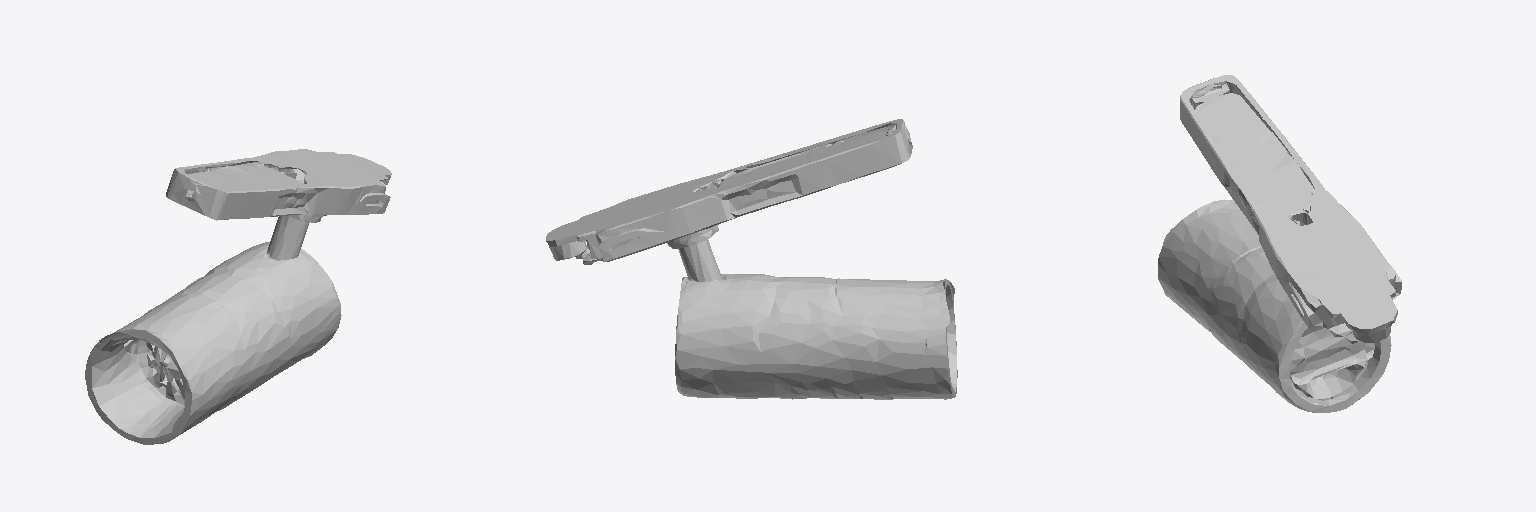
Rendered from luminaria13.obj.
3 renders of one model, left to right at view 1: azimuth 30°, elevation 25°; view 2: azimuth 150°, elevation 25°; view 3: azimuth 270°, elevation 25°, orthographic.
Parts seen in each view (by area): view 1: luminaria13; view 2: luminaria13; view 3: luminaria13.
Boxes of the visible parts, x1=… form: luminaria13: x1=85, y1=149, x2=391, y2=444; luminaria13: x1=546, y1=119, x2=957, y2=399; luminaria13: x1=1158, y1=75, x2=1401, y2=412.
Bounding box in the file's own units: 2.31 × 1.63 × 1.39.